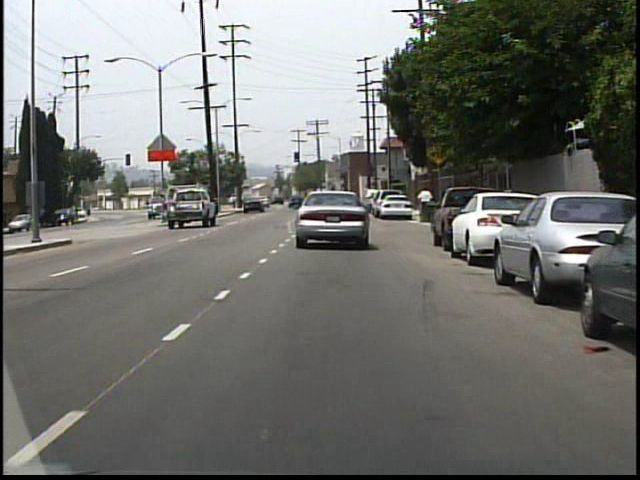person: (416, 183, 434, 204)
